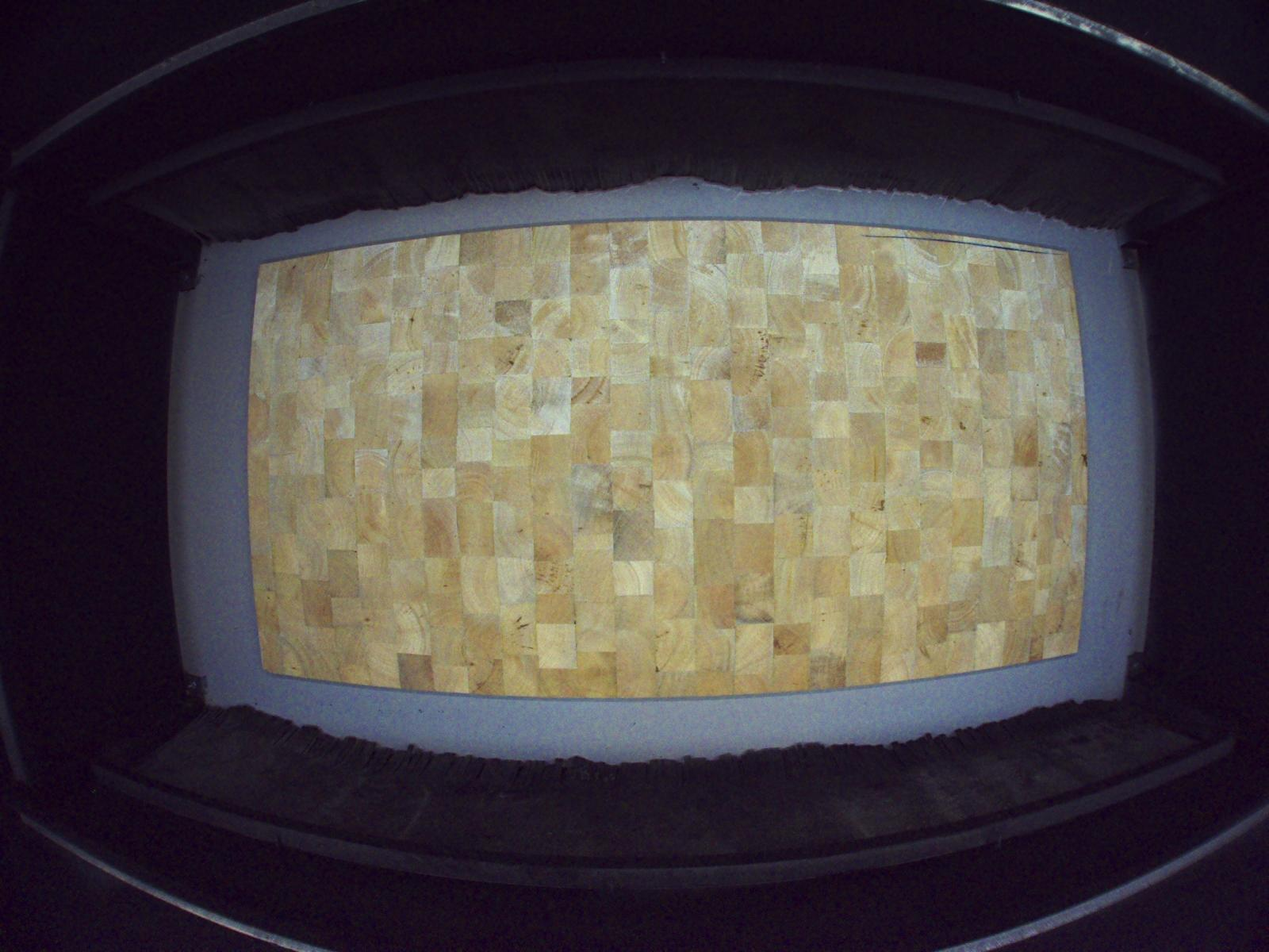nudillo: (1081, 450, 1089, 468)
